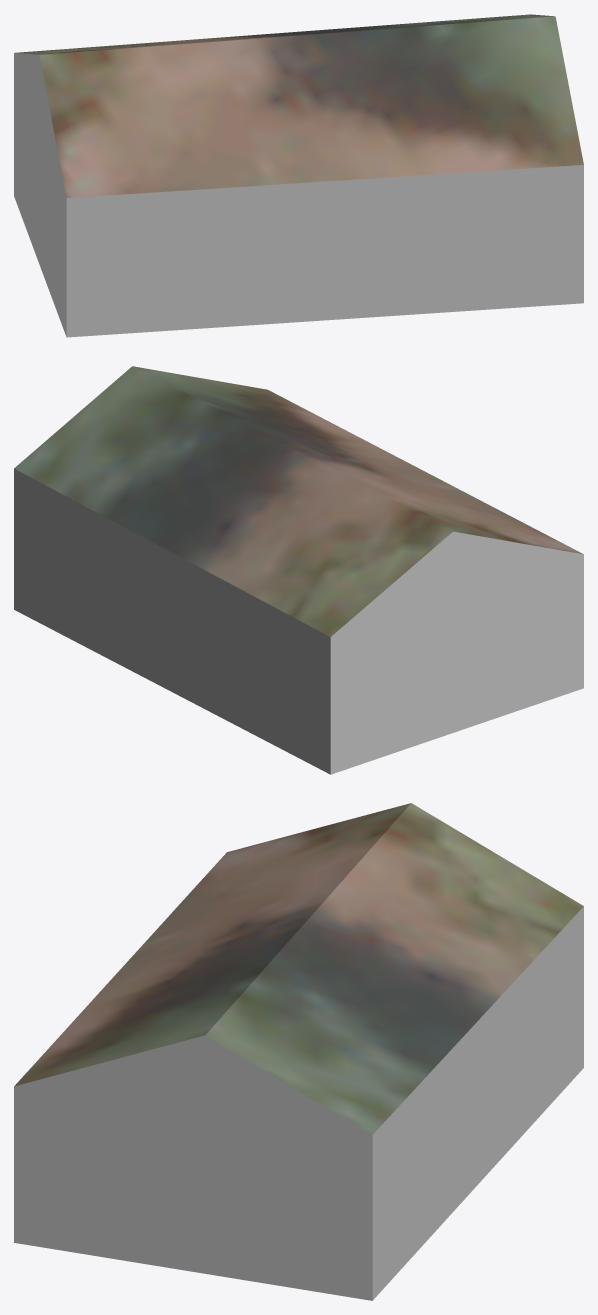
File: DEBW_0010007Txap.gltf
3 views of the same model, one above another, from view 1: azimuth 30°, elevation 25°; view 2: azimuth 150°, elevation 25°; view 3: azimuth 270°, elevation 25° (orthographic). The views are drawn at different scales.
Parts seen in each view (by area): view 1: Z_UP; view 2: Z_UP; view 3: Z_UP.
Boxes of the visible parts, bbox=[...] form: Z_UP: bbox=[14, 14, 583, 337]; Z_UP: bbox=[14, 366, 583, 774]; Z_UP: bbox=[14, 803, 583, 1300].
Bounding box in the file's own units: 9.42 × 3.6 × 7.79.
2 materials, 1 textured.
